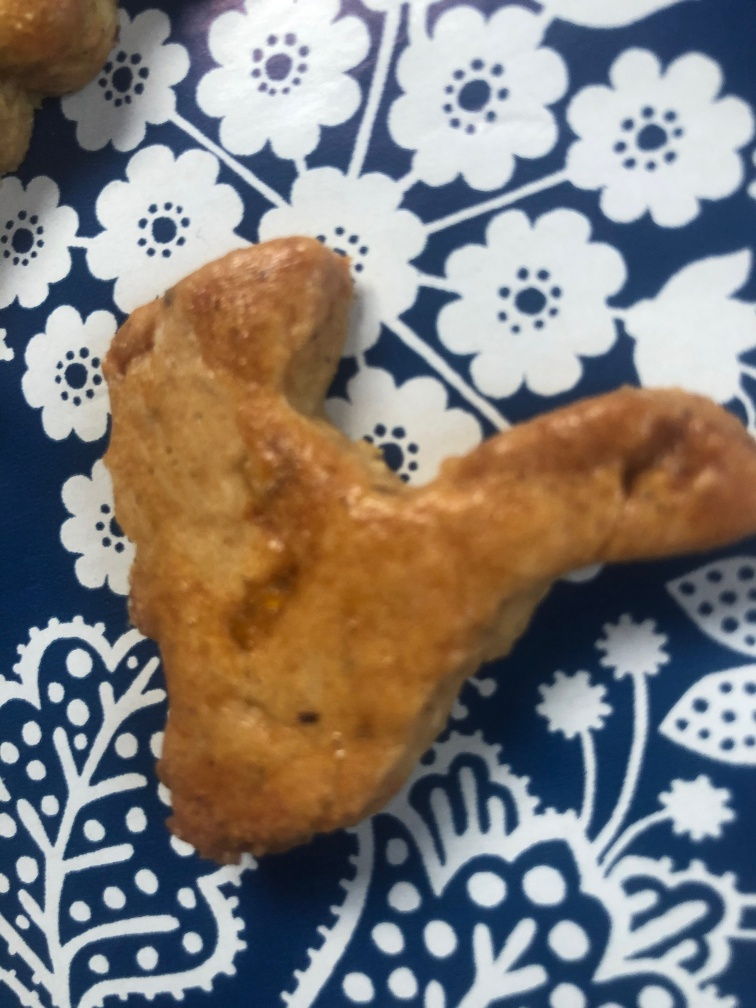squirrel: (93, 227, 755, 883)
